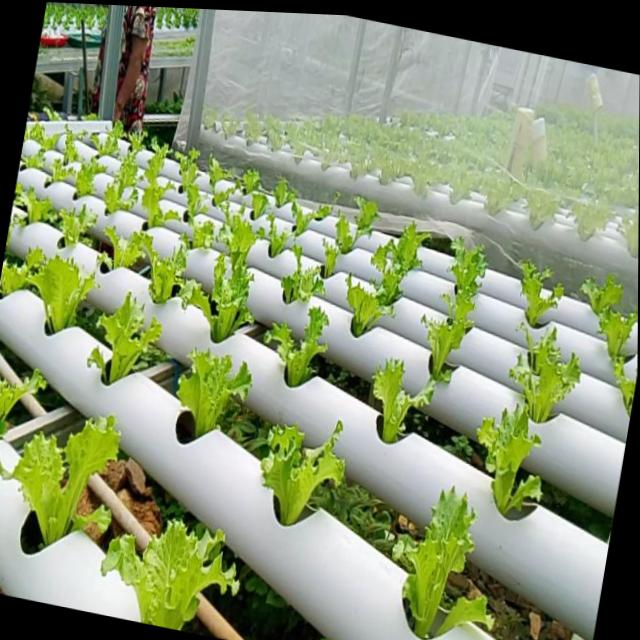Baby: (0, 414, 120, 542), (101, 518, 239, 629), (395, 487, 477, 639), (422, 239, 487, 389), (261, 421, 345, 527), (176, 350, 252, 445), (477, 405, 541, 516), (510, 328, 581, 423), (93, 293, 162, 385), (30, 251, 99, 333), (372, 359, 436, 445), (264, 307, 329, 388), (371, 223, 429, 306), (133, 233, 194, 309), (103, 135, 144, 215), (273, 246, 325, 306), (597, 305, 638, 380), (217, 209, 265, 271), (346, 276, 393, 338), (519, 262, 563, 328), (75, 158, 104, 198), (90, 123, 124, 157), (212, 181, 235, 213), (191, 222, 215, 249), (63, 128, 79, 166)
